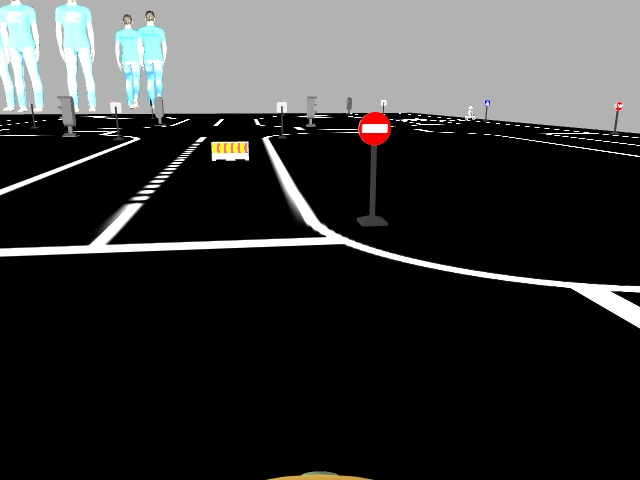ClosedRoadStand: (213, 142, 250, 158)
NoEntry: (357, 111, 391, 144)
